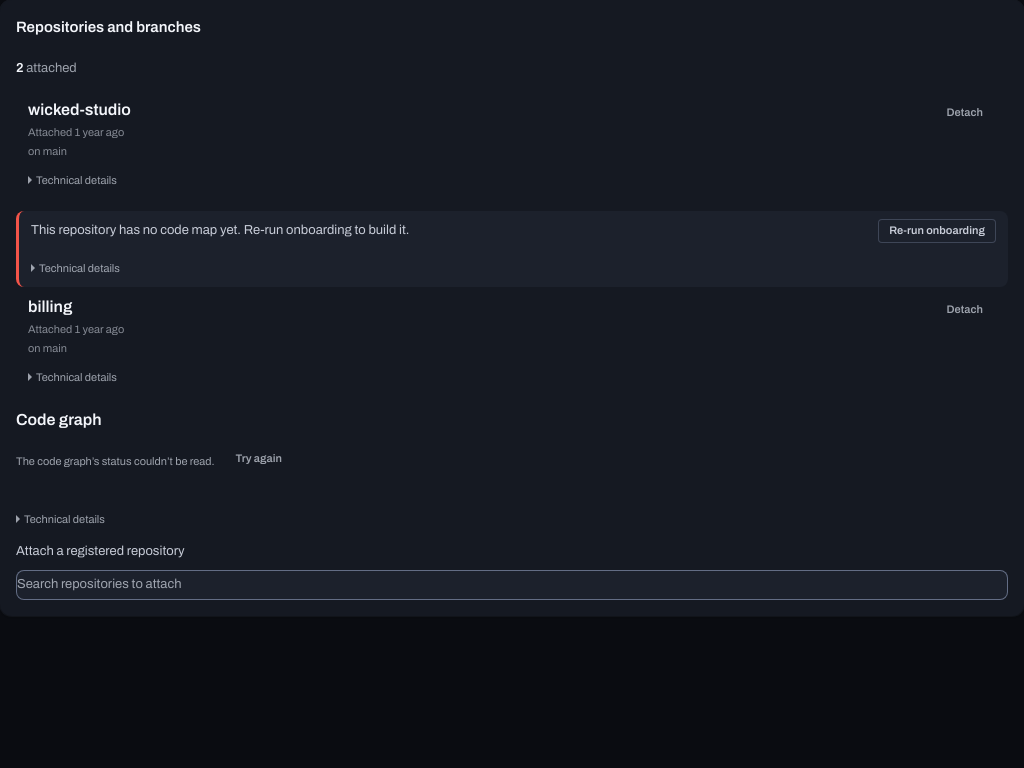
Test: ProjectRepositories — the rows carry the engine's findings (F-2R2-004) › a project with repo members warms the registry on mount and renders the finding + Re-run onboarding
Expected: the number of elements with test id "project-repo-row" is 2, [16,90,1008,199]; [16,287,1008,396]
Expected: the number of elements with test id "project-repo-findings" is 1, [16,211,1008,287]
Click the button with test id "project-repo-findings-reonboard" at x=937, y=231, box [878,219,996,243]
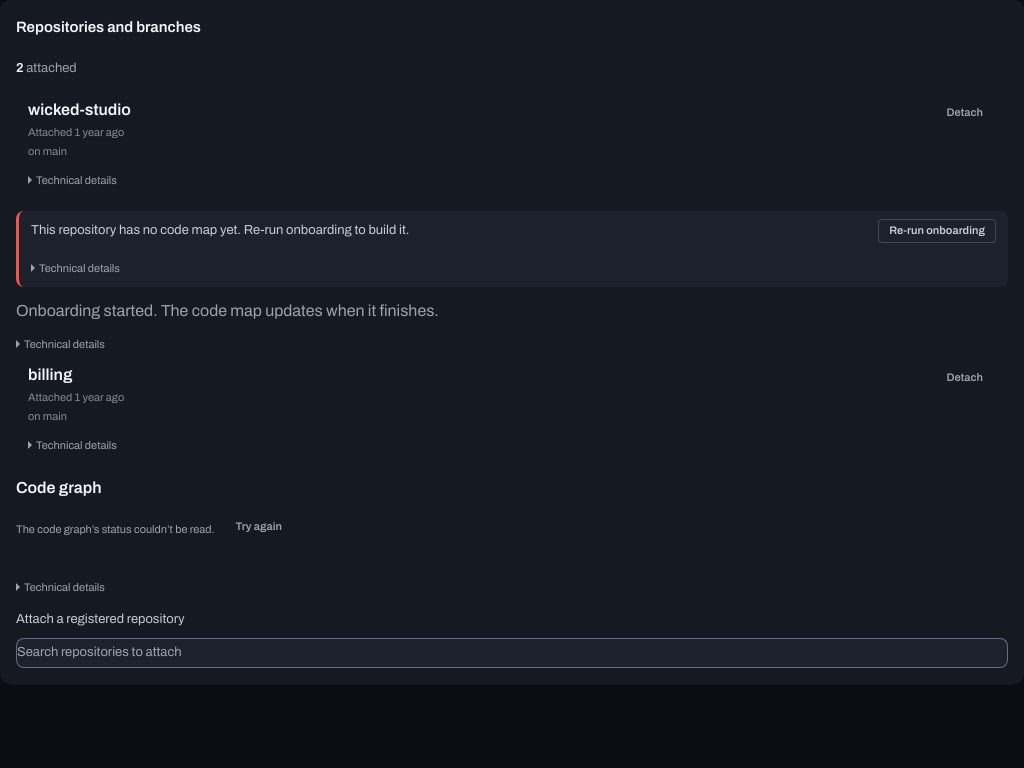
Expected: the element with test id "project-repo-reonboard-note" shows "Onboarding started.", [16,302,439,319]
